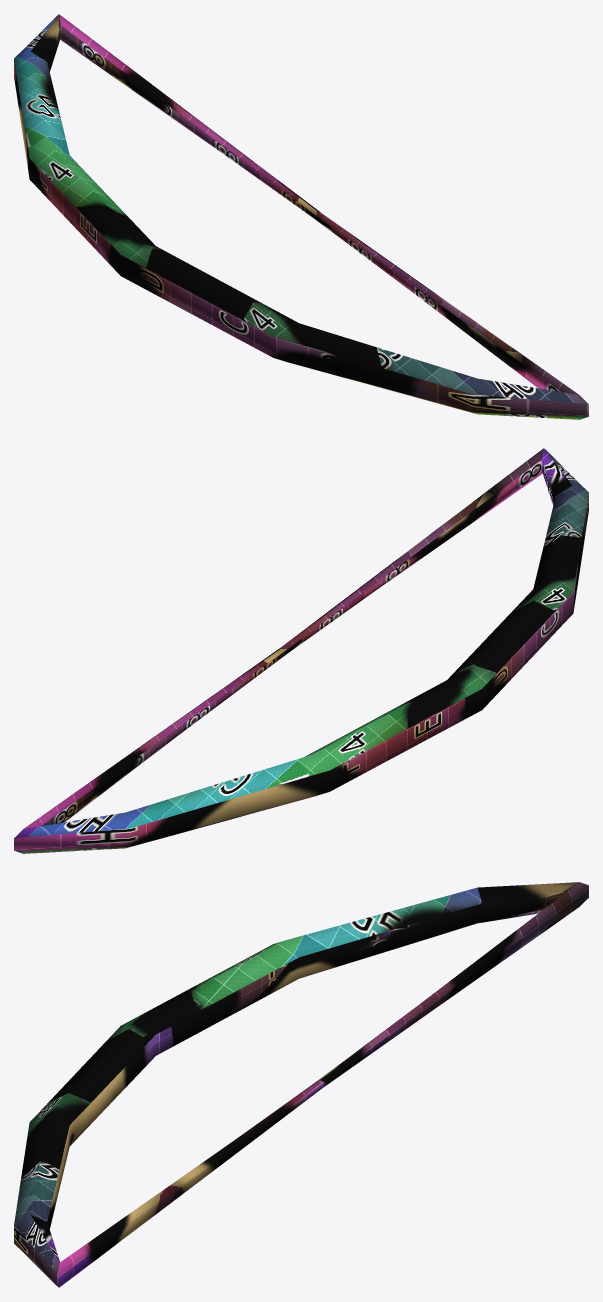
File: bow.obj
3 views of the same model, one above another, from view 1: azimuth 30°, elevation 25°; view 2: azimuth 150°, elevation 25°; view 3: azimuth 330°, elevation 25° (orthographic).
Parts seen in each view (by area): view 1: Cylinder.001; view 2: Cylinder.001; view 3: Cylinder.001.
Part boxes in pixels (bbox=[...]): Cylinder.001: bbox=[14, 14, 588, 419]; Cylinder.001: bbox=[14, 448, 588, 853]; Cylinder.001: bbox=[14, 882, 588, 1287].
Size of the model in its own units: 0.2472 by 0.0498 by 1.12.
